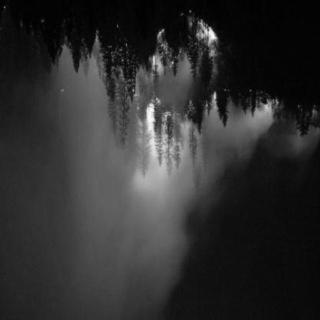Fire: (250, 92, 288, 132)
Smoke: (9, 70, 279, 318)
